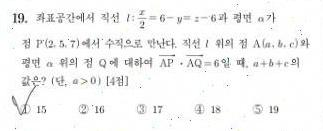choice: (11, 96, 32, 117)
not-choice: (192, 102, 205, 116), (77, 103, 90, 116), (135, 103, 147, 116), (251, 103, 264, 115)
